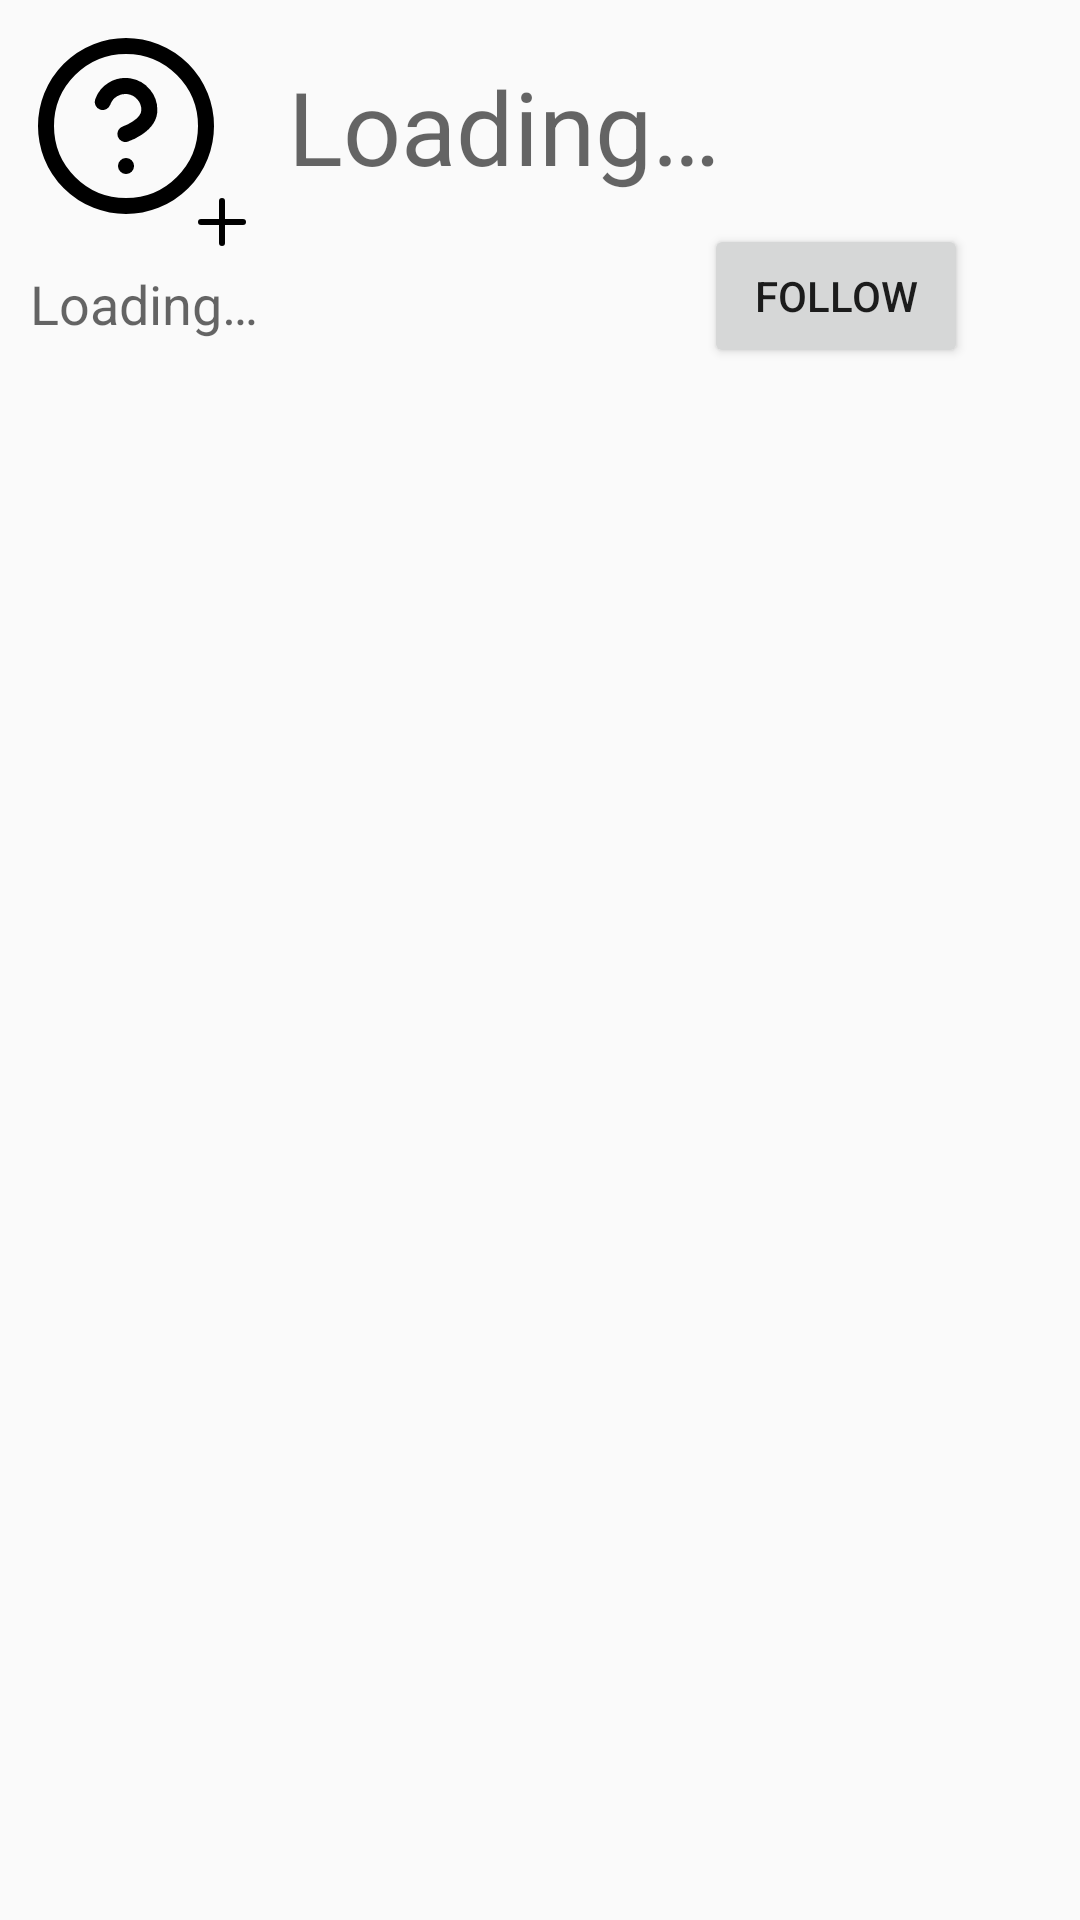

Icons on this 1080px x 1920px Android screen, each with the point to tap as point (x, y):
plus: point (222, 222)
